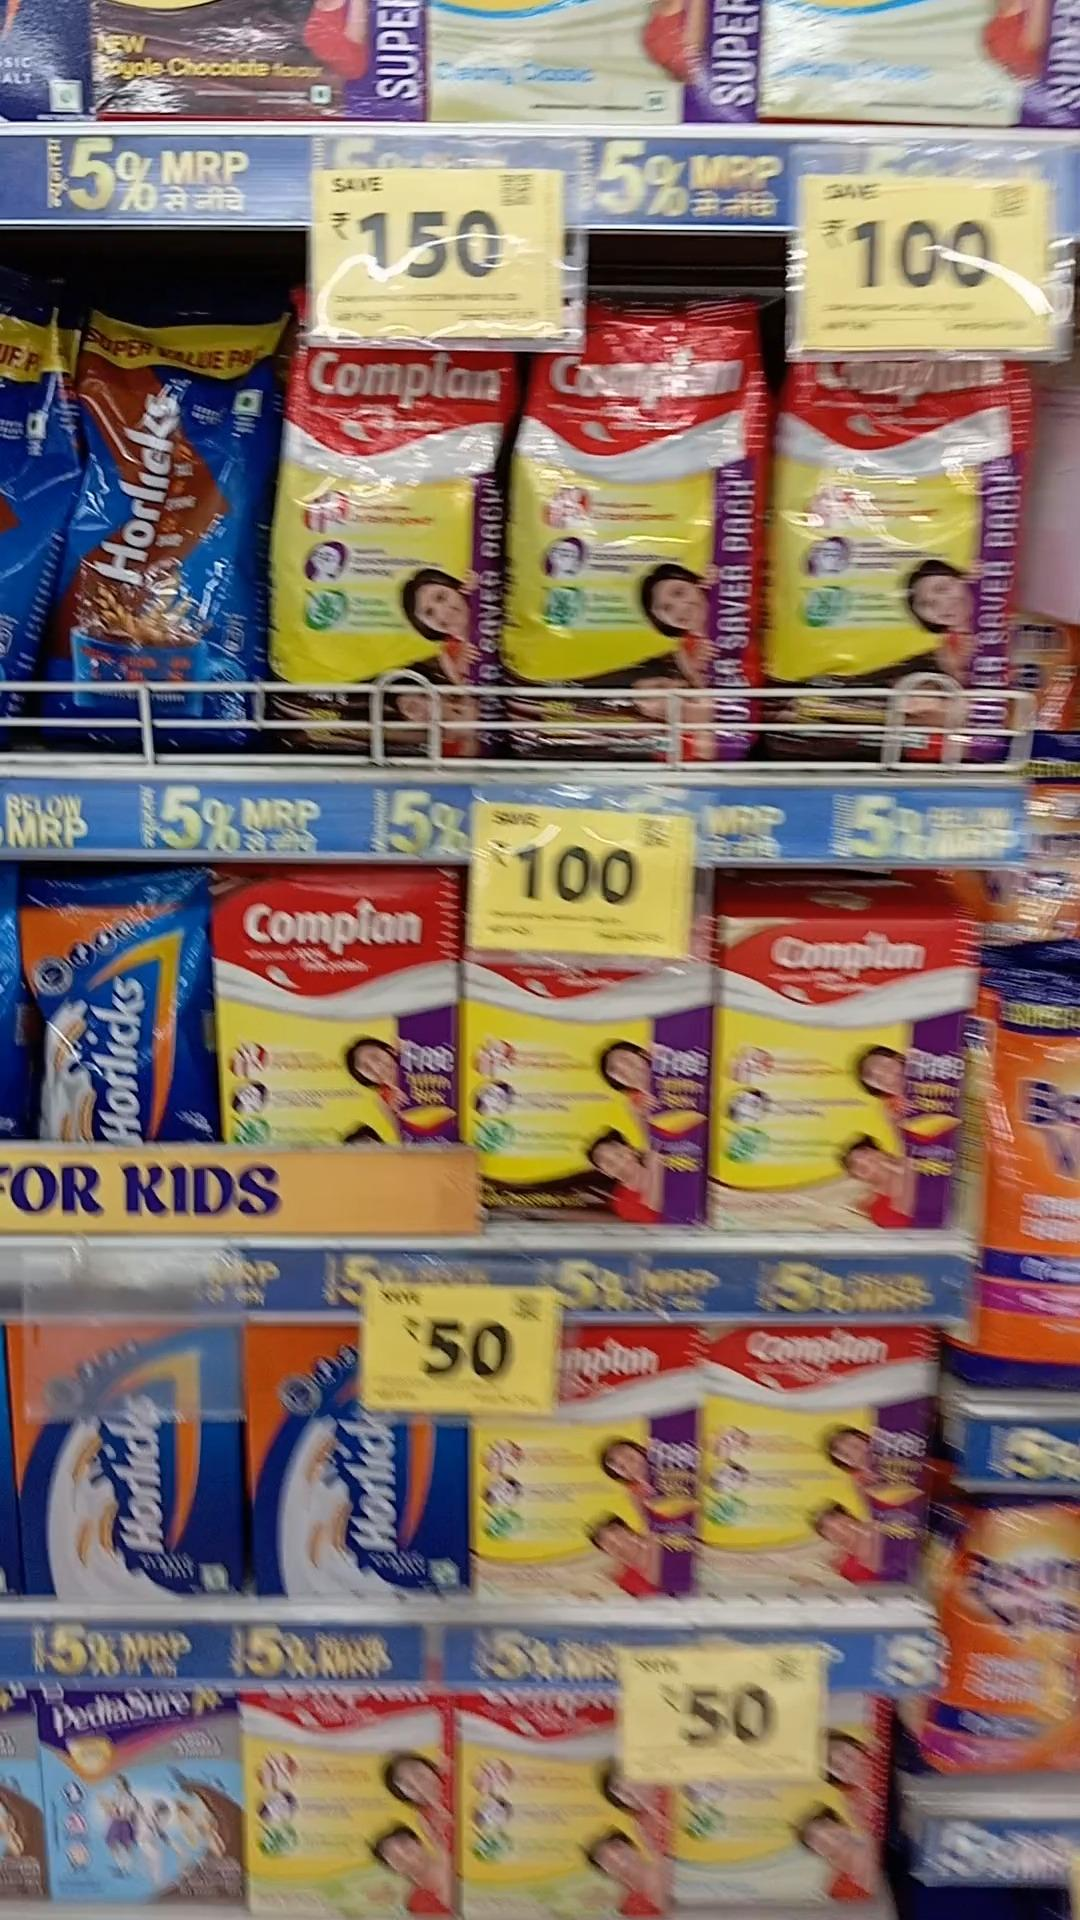COMPLAN_CHOCOLATE_500_GMS_PACK: (467, 939, 705, 1237), (207, 878, 444, 1142)
COMPLAN_KESAR_BADAM_500_GMS_PACK: (712, 906, 963, 1233), (472, 1325, 702, 1600), (712, 1325, 913, 1600)
COMPLAN_RC_POUCH_700_GMS_12: (522, 298, 766, 753), (771, 361, 1035, 766), (277, 327, 506, 760)
HORLICK_CHOCOLATE_750_G_POUCH: (70, 305, 269, 746)
HORLICK_CLASSIC_MALT_500_G_PACK: (251, 1323, 469, 1594), (20, 1328, 239, 1594)
HORLICK_CLASSIC_MALT_750_G_POUCH: (22, 865, 202, 1142)
PEDIASURE_7_PLUS_CHOCOLATE_400_G_PACK: (42, 1684, 248, 1902)
